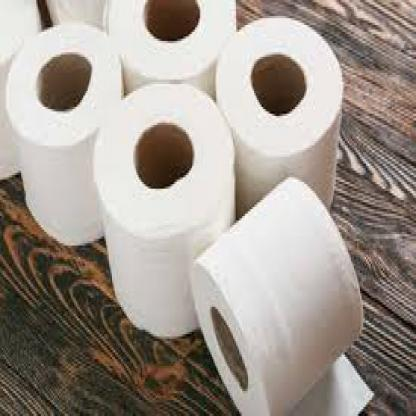tissue: (8, 20, 104, 257), (217, 15, 337, 178)
